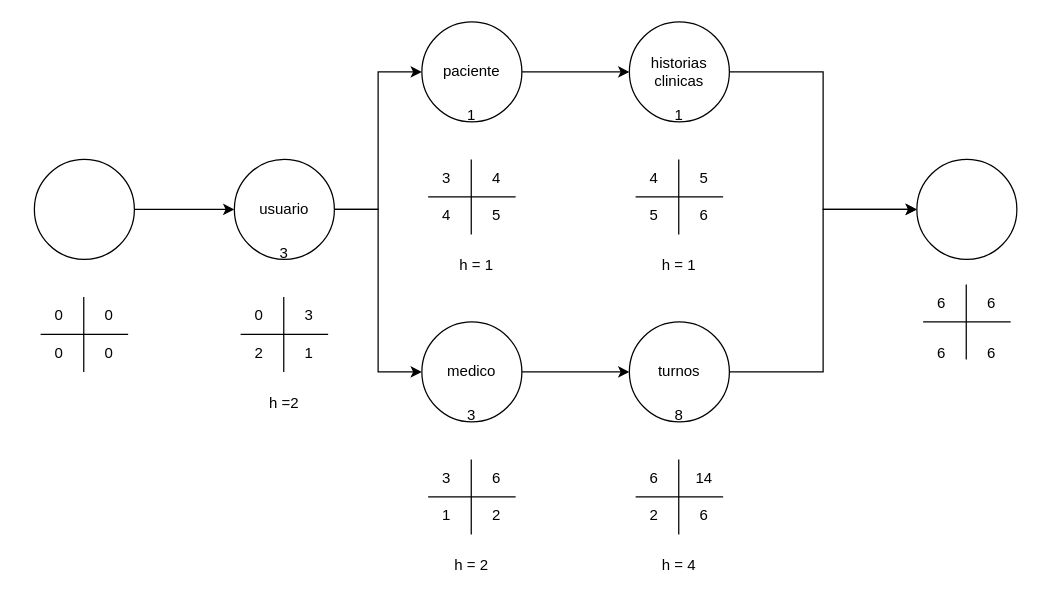
The diagram is 1050 pixels wide and 606 high, and some of its shapes have lost their labels. Each missing label, with the centre of its shape:
final: the point at 966,208
inicio: the point at 83,208
